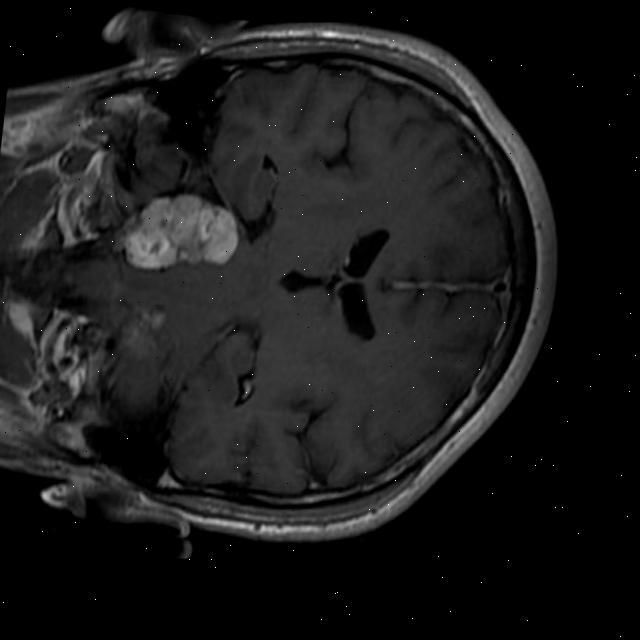Meningioma: (108, 188, 244, 280)
